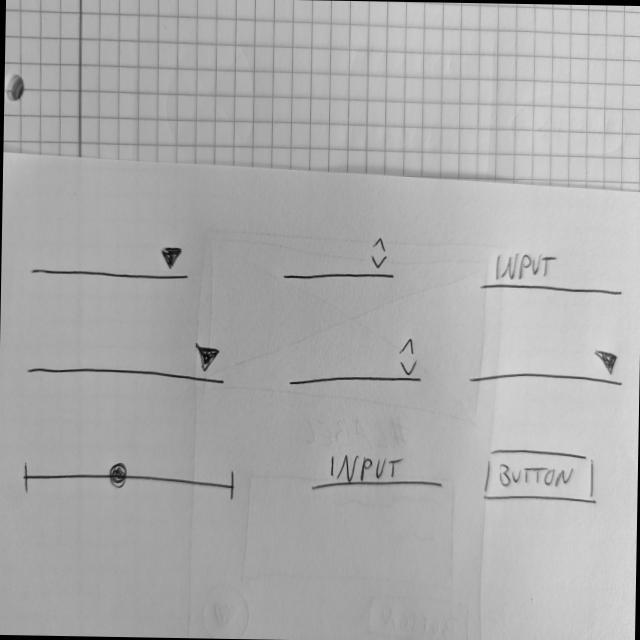button: (478, 444, 598, 505)
input: (476, 245, 624, 298), (309, 446, 447, 496)
number-input: (286, 329, 426, 392), (278, 228, 398, 286)
select: (22, 333, 232, 388), (26, 237, 191, 284), (464, 343, 625, 391)
slider: (20, 458, 238, 503)
